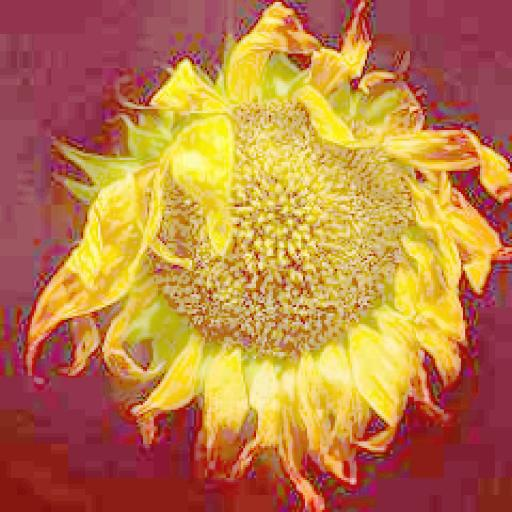sunflower: (32, 6, 512, 506)
